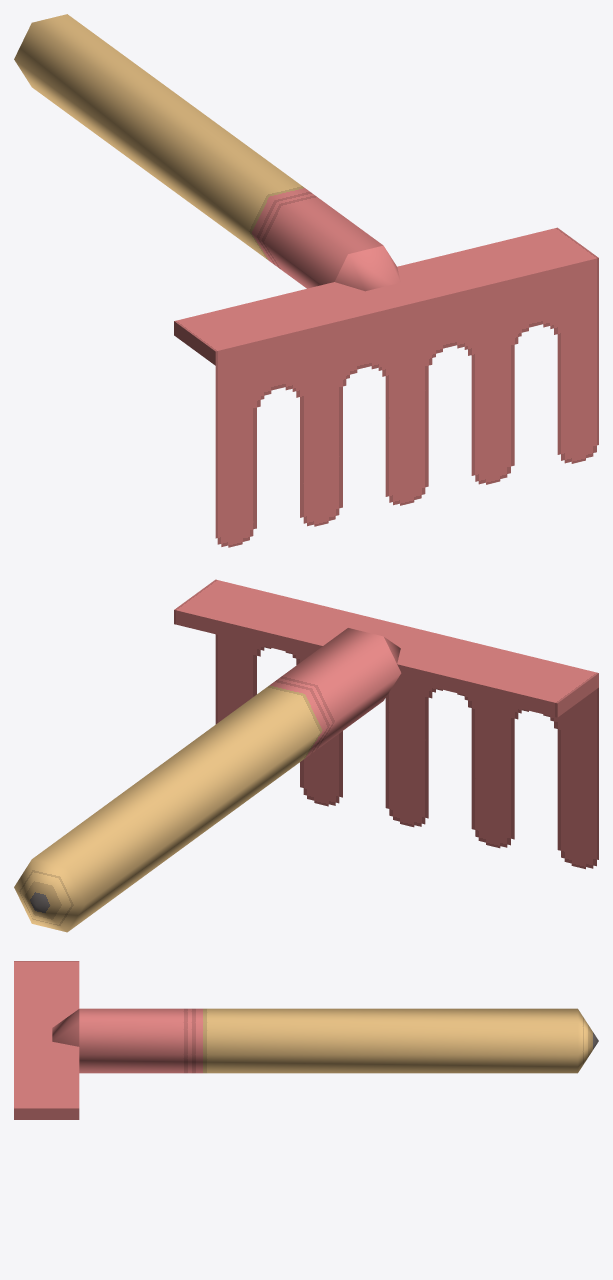
The model's file is 0301_Kiddie_Rake.glb.
The picture shows the model from 3 angles, top to bottom: view 1: azimuth 30°, elevation 25°; view 2: azimuth 150°, elevation 25°; view 3: azimuth 270°, elevation 25°; orthographic projection. The views are drawn at different scales.
Visible parts, largest first — view 1: part_0; view 2: part_0; view 3: part_0.
Boxes of the visible parts, left/top/right/bottom form: part_0: left=14, top=14, right=598, bottom=547; part_0: left=14, top=579, right=598, bottom=932; part_0: left=14, top=961, right=598, bottom=1119.
Size of the model in its own units: 0.14 by 0.0781 by 0.2347.
1 material, 1 textured.
